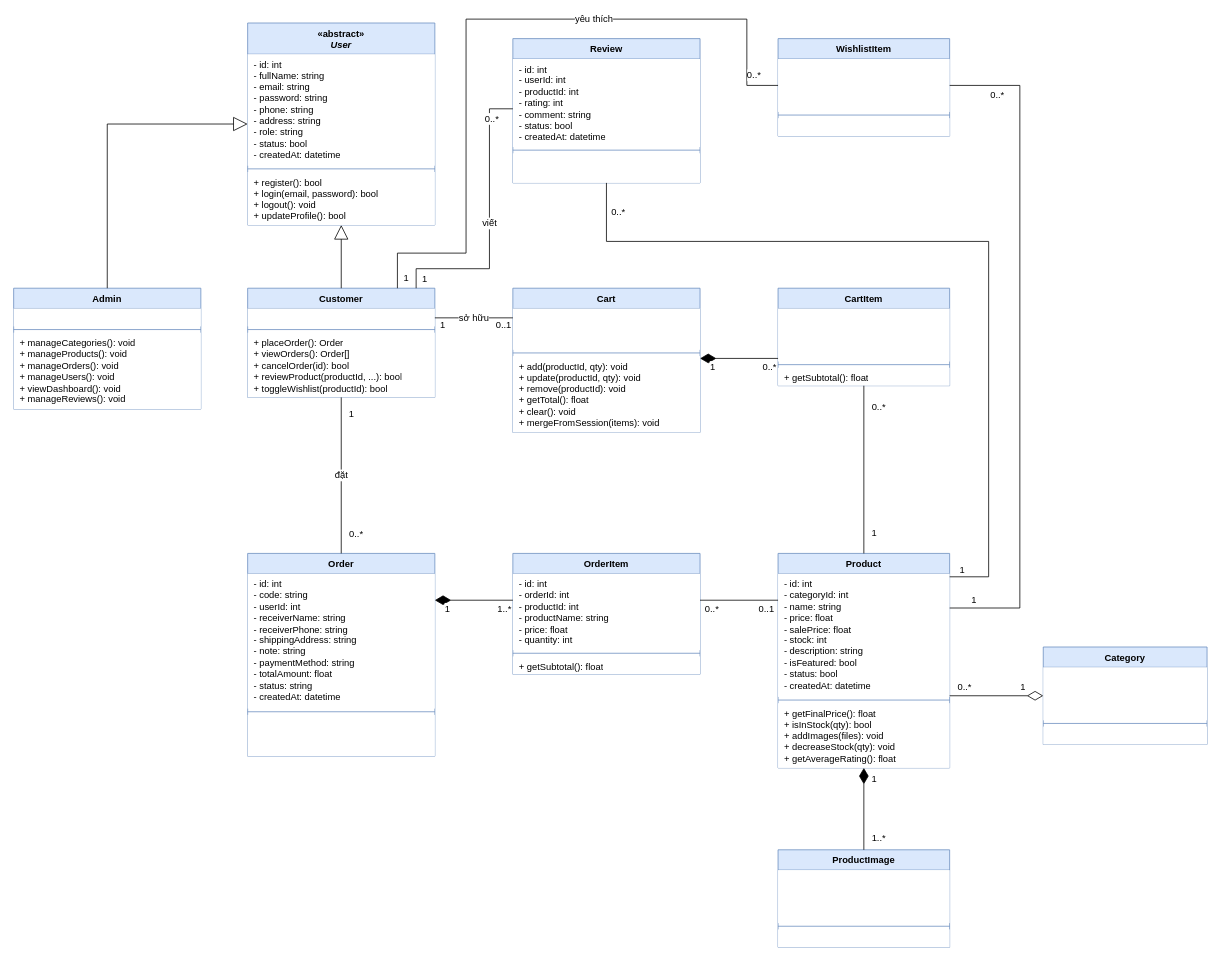
Image size: 1221x963. Some labels were removed from this diagram. The shapes that lost their labels are listed below. From the top down, each one's centre as x and y in pixels, then its label:
At [863,85]: "- id: int - userId: int - productId: int - createdAt: datetime".
At [863,127]: "+ remove(): void".
At [606,168]: "+ update(rating, comment): bool + setVisible(status): void".
At [606,328]: "- id: int - userId: int - items: CartItem[]".
At [863,334]: "- id: int - cartId: int - productId: int - quantity: int".
At [1125,693]: "- id: int - name: string - description: string - status: bool".
At [340,735]: "+ calculateTotal(): float + updateStatus(status): bool + cancel(): bool".
At [1125,735]: "+ getProducts(): Product[]".
At [863,896]: "- id: int - productId: int - imagePath: string - isMain: bool".
At [863,938]: "+ setMain(): void".
